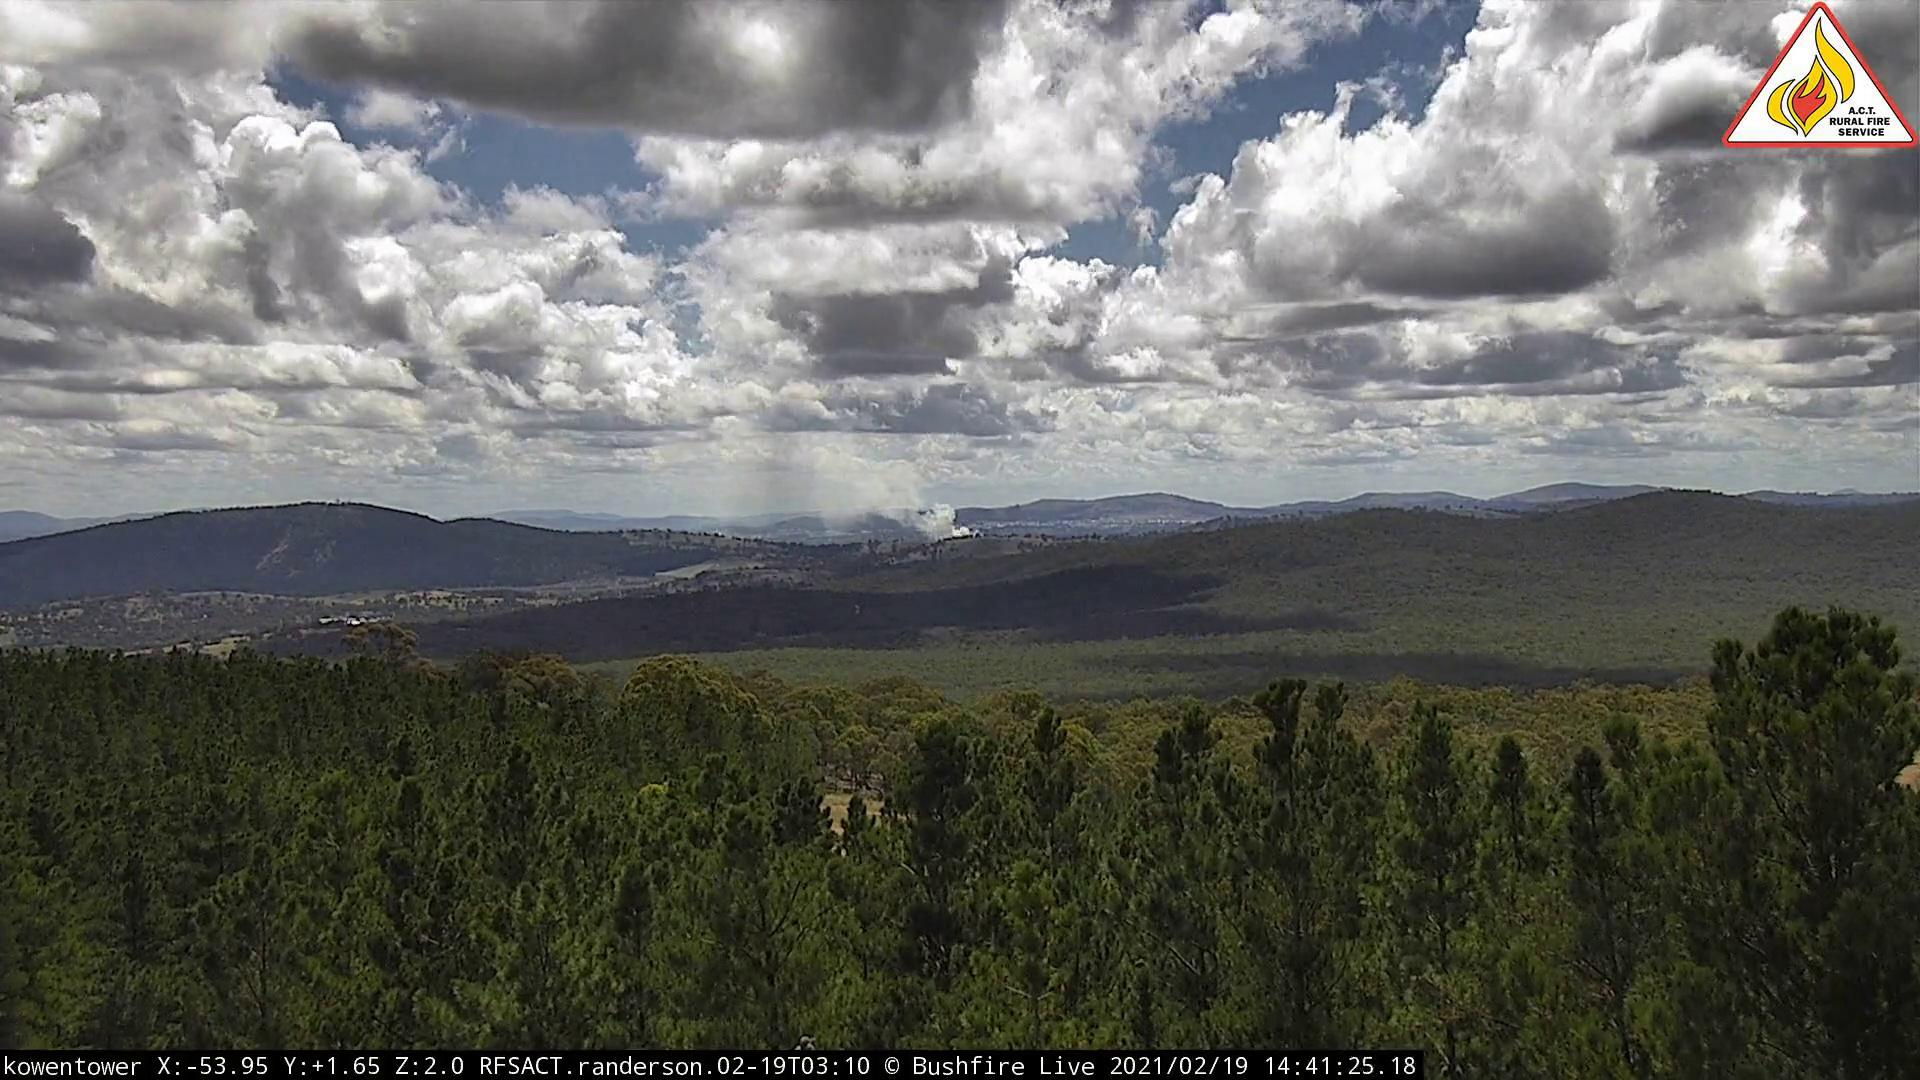Smoke: (727, 442, 984, 550)
